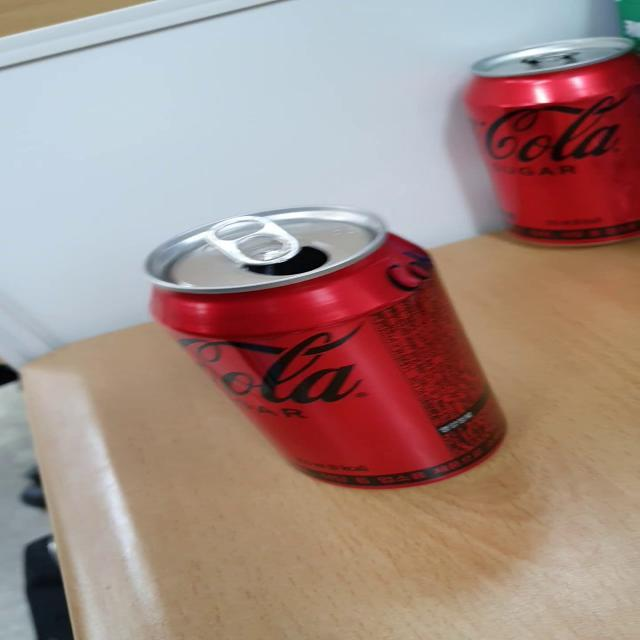coca-cola: (134, 198, 528, 490), (456, 28, 640, 254)
